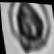correct: (4, 0, 54, 54)
